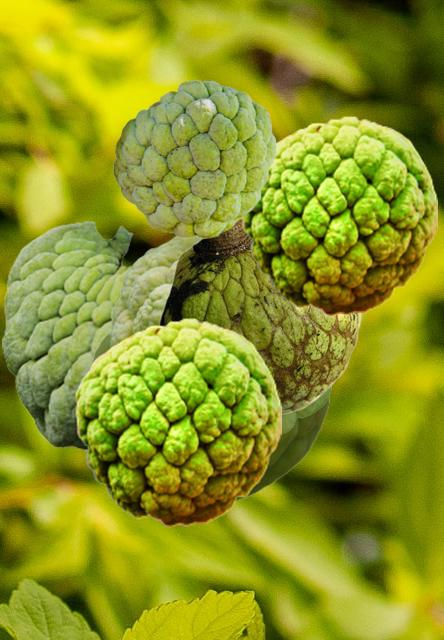atis: (110, 236, 333, 436), (74, 317, 280, 526), (86, 330, 328, 501), (158, 219, 360, 415), (239, 115, 436, 315), (2, 220, 136, 453), (113, 80, 275, 237)
